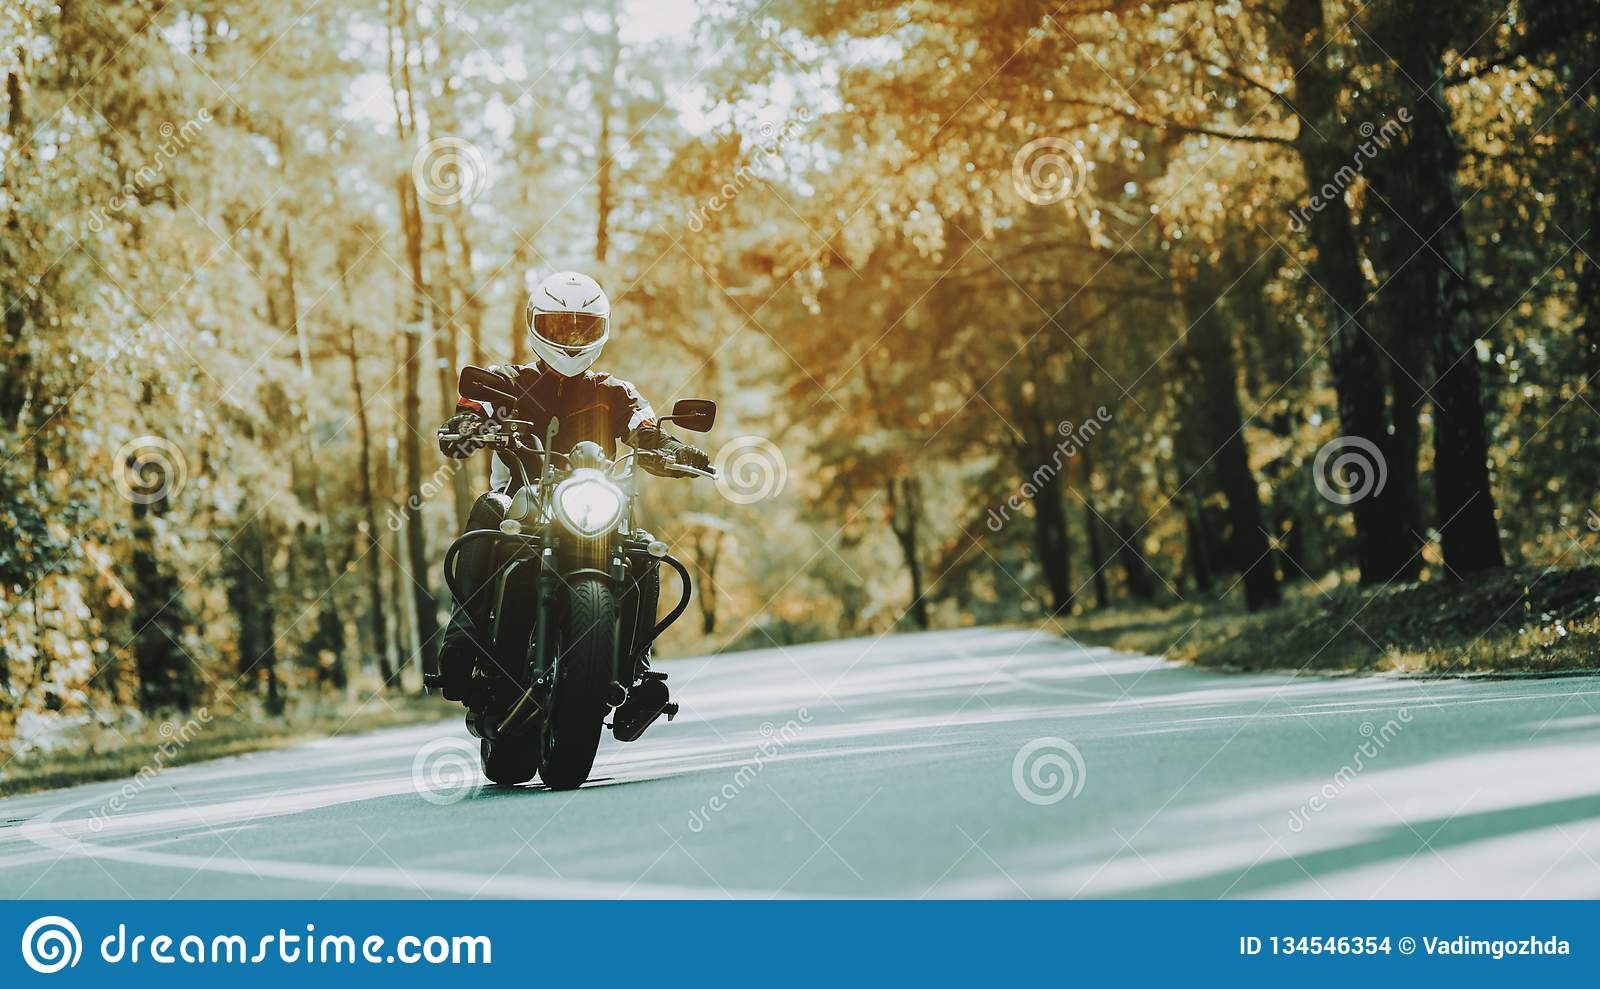helmet: (517, 276, 617, 373)
